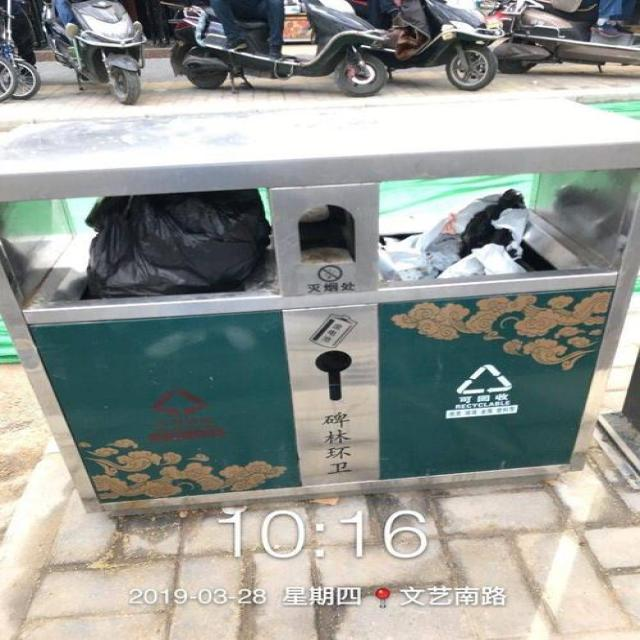overflow: (0, 95, 639, 513)
